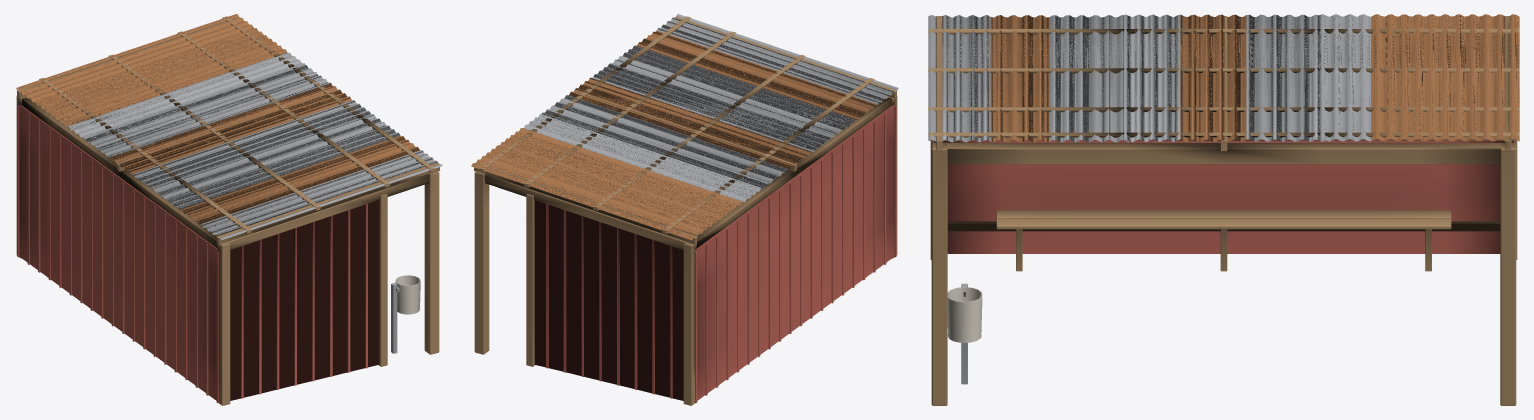
The model's file is shelter.glb.
The picture shows the model from 3 angles, left to right: view 1: azimuth 30°, elevation 25°; view 2: azimuth 150°, elevation 25°; view 3: azimuth 270°, elevation 25°; orthographic projection. The views are drawn at different scales.
Parts seen in each view (by area): view 1: PART; view 2: PART; view 3: PART.
Part boxes in pixels (x1,y1,x2,y2): PART: [16, 14, 442, 405]; PART: [471, 14, 898, 405]; PART: [928, 14, 1519, 405].
Bounding box in the file's own units: 3.21 × 2.61 × 5.2.
